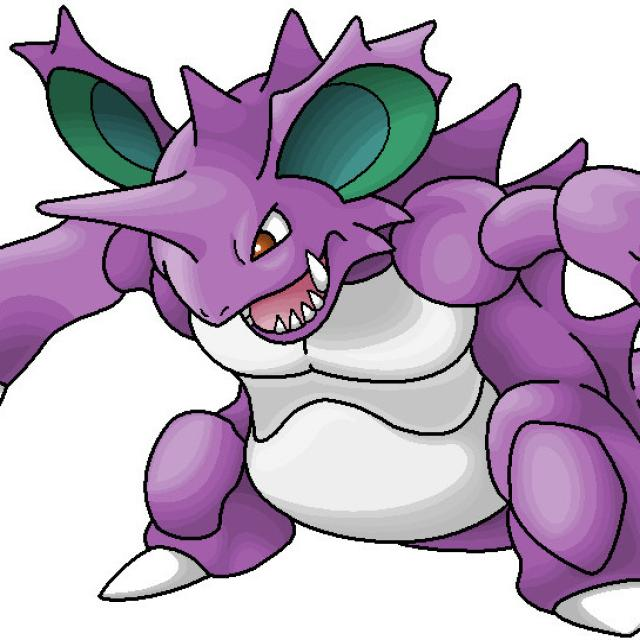Nidoking: (52, 29, 638, 579)
